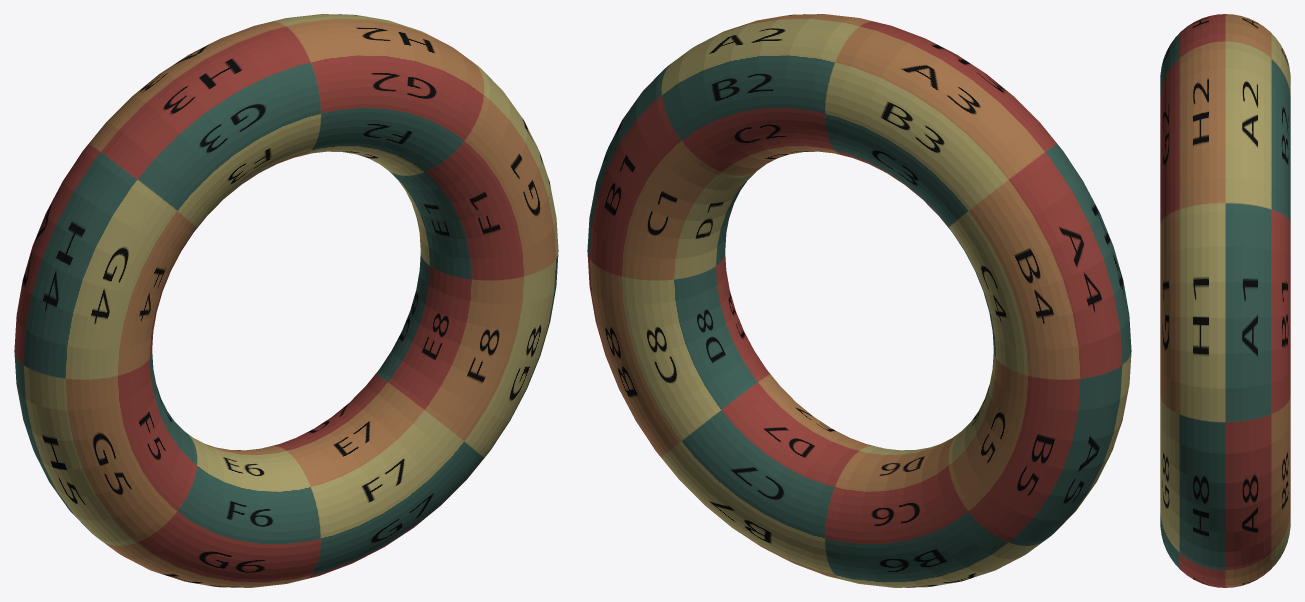
Rendered from texture_torus_R17_r16.glb.
3 renders of one model, left to right at view 1: azimuth 30°, elevation 25°; view 2: azimuth 150°, elevation 25°; view 3: azimuth 270°, elevation 25°, orthographic. The views are drawn at different scales.
Visible parts, largest first — view 1: world; view 2: world; view 3: world.
Part boxes in pixels (x1,y1,x2,y2): world: (14,14,558,587); world: (587,14,1131,587); world: (1160,14,1290,587).
Size of the model in its own units: 27.6 by 27.55 by 6.25.
1 material, 1 textured.
